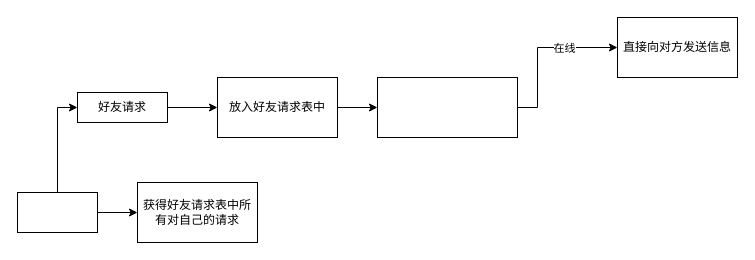
Some shapes in this 755 by 260 pixel diagram are drawn without their labels. The centre of each missing label's shape, as x and y in pixels:
查找对应用户是否在线: (447,107)
用户登录: (57,212)
